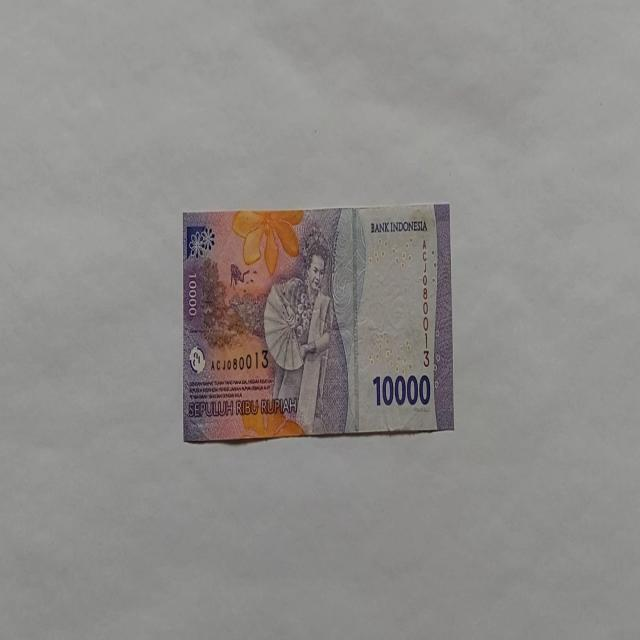sepuluh ribu rupiah: (182, 202, 454, 442)
